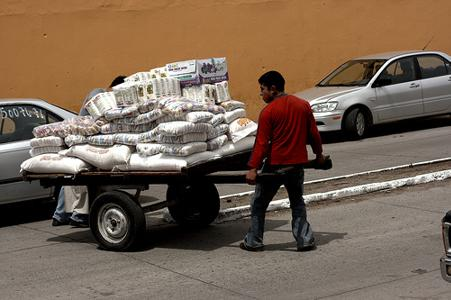person: (240, 69, 330, 253)
